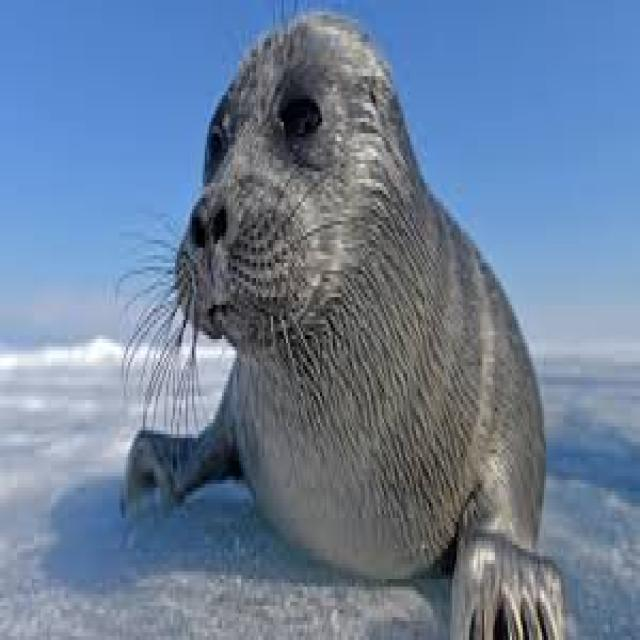seal: (124, 11, 563, 636)
